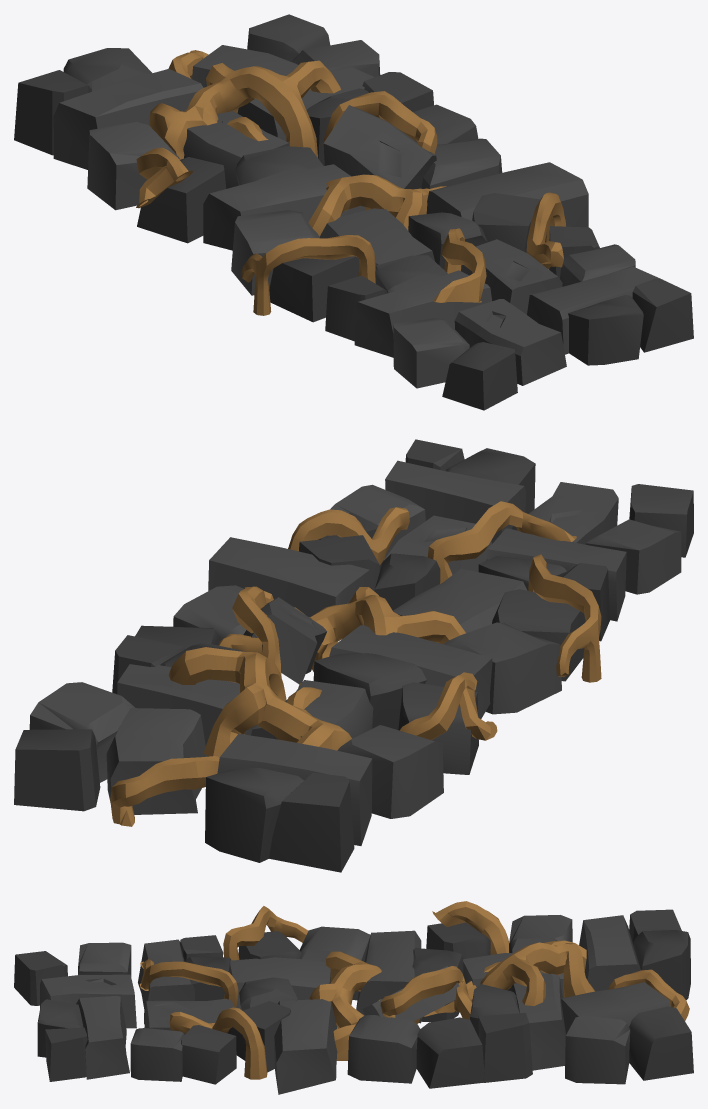
The model's file is ea01_env_road_cobble_01a_pre_6_lev1.glb.
3 views of the same model, one above another, from view 1: azimuth 30°, elevation 25°; view 2: azimuth 150°, elevation 25°; view 3: azimuth 270°, elevation 25° (orthographic). The views are drawn at different scales.
Visible parts, largest first — view 1: ea01_env_road_cobble_01a_pre_6_lev1; view 2: ea01_env_road_cobble_01a_pre_6_lev1; view 3: ea01_env_road_cobble_01a_pre_6_lev1.
Boxes of the visible parts, x1,y1,x2,y2 form: ea01_env_road_cobble_01a_pre_6_lev1: (14, 14, 693, 410); ea01_env_road_cobble_01a_pre_6_lev1: (14, 439, 693, 872); ea01_env_road_cobble_01a_pre_6_lev1: (14, 901, 693, 1094).
Size of the model in its own units: 2.73 by 0.7482 by 5.52.
Materials: 1 (1 with a texture image).
